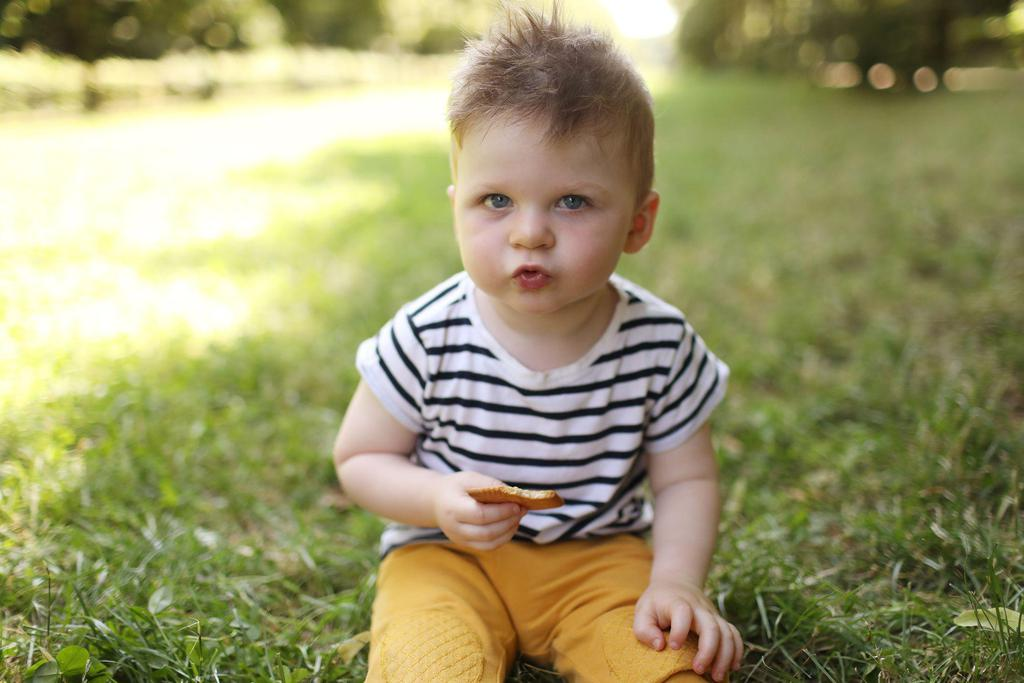child: (304, 10, 769, 680)
